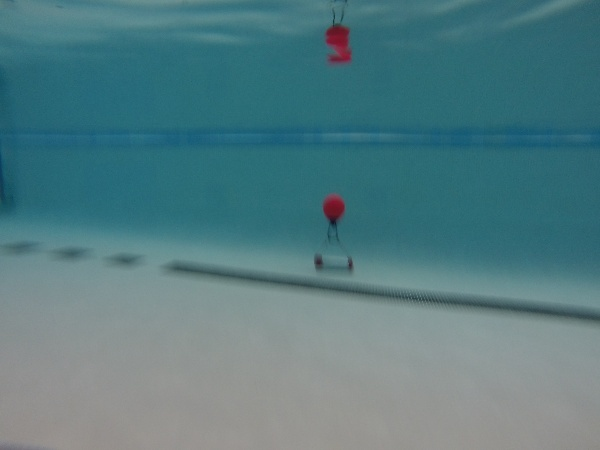buoy_red: (321, 194, 347, 228)
